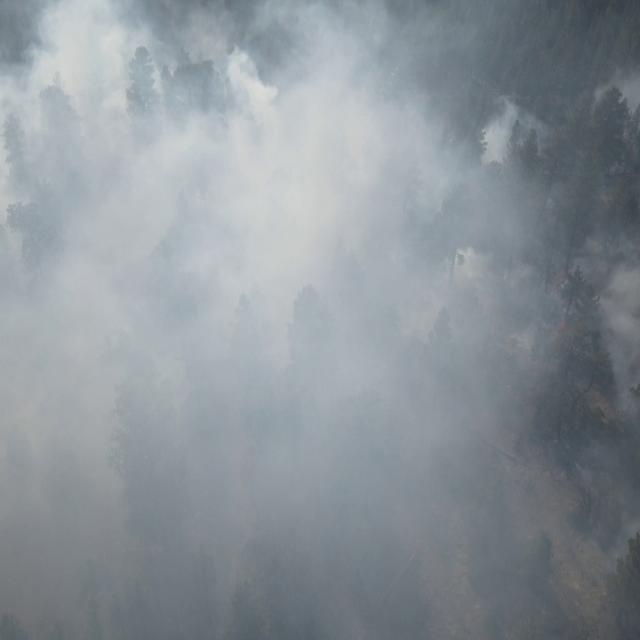fire: (550, 312, 581, 341)
smoke: (0, 0, 640, 640)
